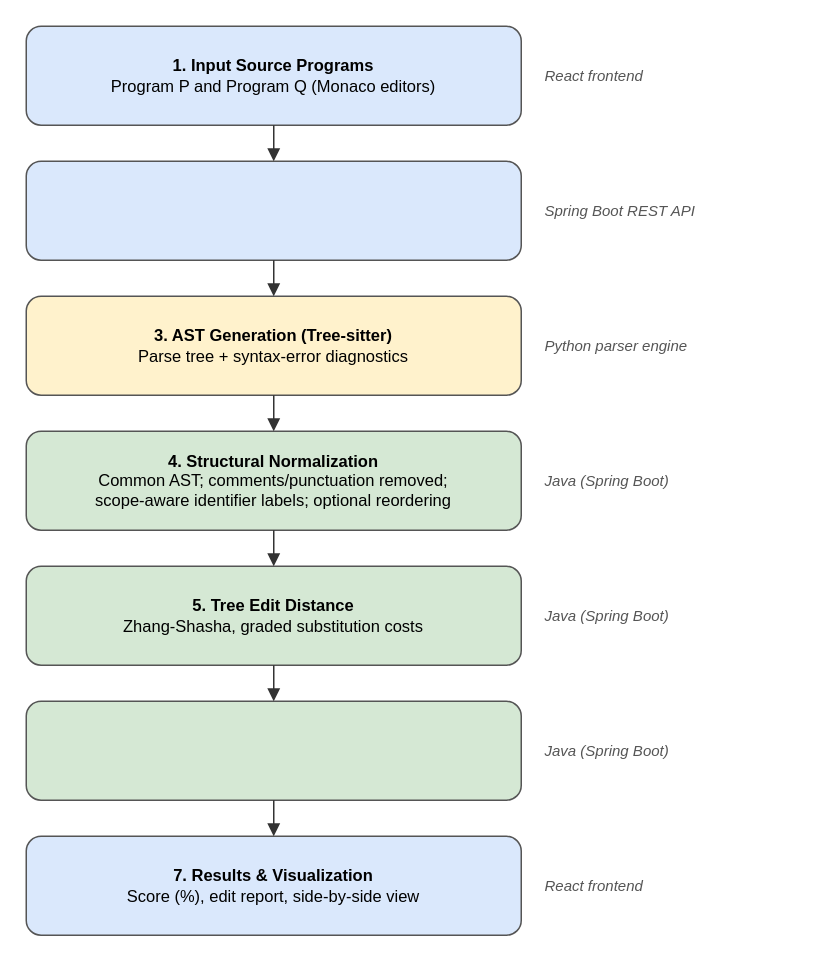
This 824x962 diagram has some shape labels left out. The centre of each missing label's shape, as x and y in pixels:
"2. Language Selection & Validation C / C++ / Python; size and non-empty checks" belongs at point 273,210.
"6. Similarity Score Calculation S = 100 x (1 - D / (|T_P| + |T_Q|))" belongs at point 273,750.
